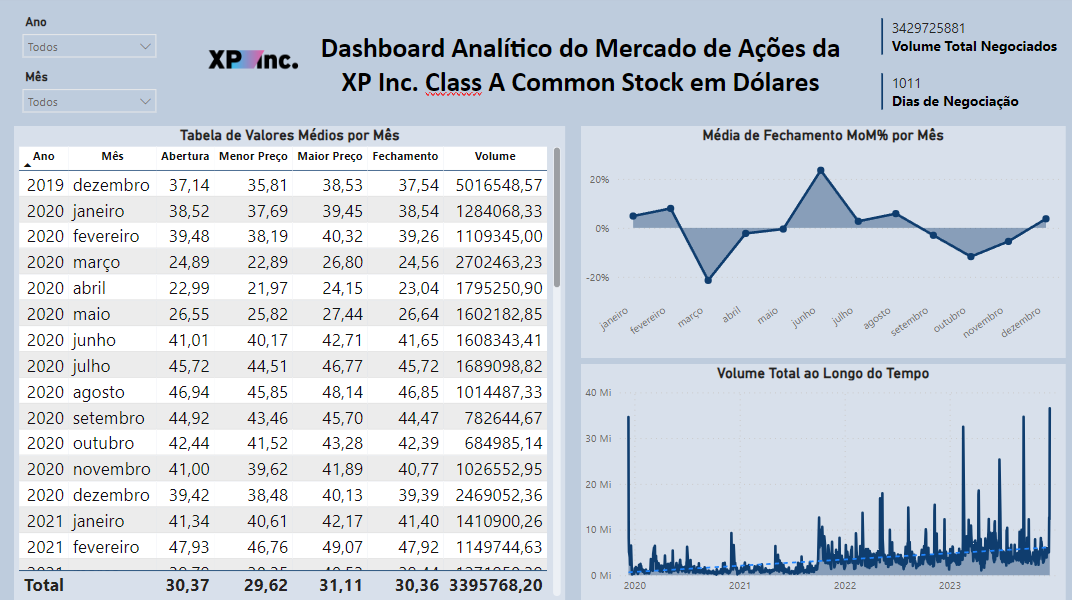

This screenshot's page, from the dashboard's own definition file:
{"tool":"powerbi","page":{"name":"Página 1","canvas":[1280,720],"ordinal":0},"visuals":[{"type":"textbox","box":[382.6,35.9,615.7,96.2],"z":0},{"type":"image","box":[168.1,0,285.2,147.2],"z":1000},{"type":"areaChart","title":"Volume Total ao Longo do Tempo","fields":{"Category":["XP-Stock.Data.Variation.Hierarquia de datas.Ano","XP-Stock.Data.Variation.Hierarquia de datas.Trimestre","XP-Stock.Data.Variation.Hierarquia de datas.Mês","XP-Stock.Data.Variation.Hierarquia de datas.Dia"],"Y":["Sum(XP-Stock.Volume)"]},"box":[691,426.3,561.5,275],"z":2000},{"type":"slicer","fields":{"Values":["XP-Stock.Data.Variation.Hierarquia de datas.Ano"]},"box":[33.2,16,175.3,64.2],"z":3000},{"type":"slicer","fields":{"Values":["XP-Stock.Data.Variation.Hierarquia de datas.Mês"]},"box":[33.2,80.2,175.3,66.5],"z":4000},{"type":"stackedAreaChart","fields":{"Category":["XP-Stock.Data.Variation.Hierarquia de datas.Mês"],"Y":["XP-Stock.Média de Fechamento MoM%"]},"box":[691,151.3,561.5,269.3],"z":5000},{"type":"tableEx","title":"Tabela de Valores Médios por Mês","fields":{"Values":["XP-Stock.Data.Variation.Hierarquia de datas.Ano","XP-Stock.Data.Variation.Hierarquia de datas.Mês","Avg(XP-Stock.Abertura)","Avg(XP-Stock.Menor Preço)","Avg(XP-Stock.Maior Preço)","Avg(XP-Stock.Fechamento)","Avg(XP-Stock.Volume)"]},"box":[33.2,151.3,639.4,550],"z":6000},{"type":"multiRowCard","fields":{"Values":["Sum(XP-Stock.Volume)"]},"box":[1034.8,20.6,217.7,53.9],"z":7000},{"type":"multiRowCard","fields":{"Values":["XP-Stock.Data"]},"box":[1034.2,84.6,218,62.6],"z":8000},{"type":"textbox","box":[1198.8,691,81.2,29],"z":8001}]}

Visuals, with their boxes in screenshot pixels (x1, y1, x2, y2), scaled from the page's 1280x720 canvas onto the 1072x600 screenshot:
textbox: left=320, top=30, right=836, bottom=110
image: left=141, top=0, right=380, bottom=123
"Volume Total ao Longo do Tempo" areaChart: left=579, top=355, right=1049, bottom=584
slicer - XP-Stock.Data.Variation.Hierarquia de datas.Ano: left=28, top=13, right=175, bottom=67
slicer - XP-Stock.Data.Variation.Hierarquia de datas.Mês: left=28, top=67, right=175, bottom=122
stackedAreaChart - XP-Stock.Data.Variation.Hierarquia de datas.Mês x XP-Stock.Média de Fechamento MoM%: left=579, top=126, right=1049, bottom=351
"Tabela de Valores Médios por Mês" tableEx: left=28, top=126, right=563, bottom=584
multiRowCard - Sum(XP-Stock.Volume): left=867, top=17, right=1049, bottom=62
multiRowCard - XP-Stock.Data: left=866, top=70, right=1049, bottom=123
textbox: left=1004, top=576, right=1071, bottom=599
